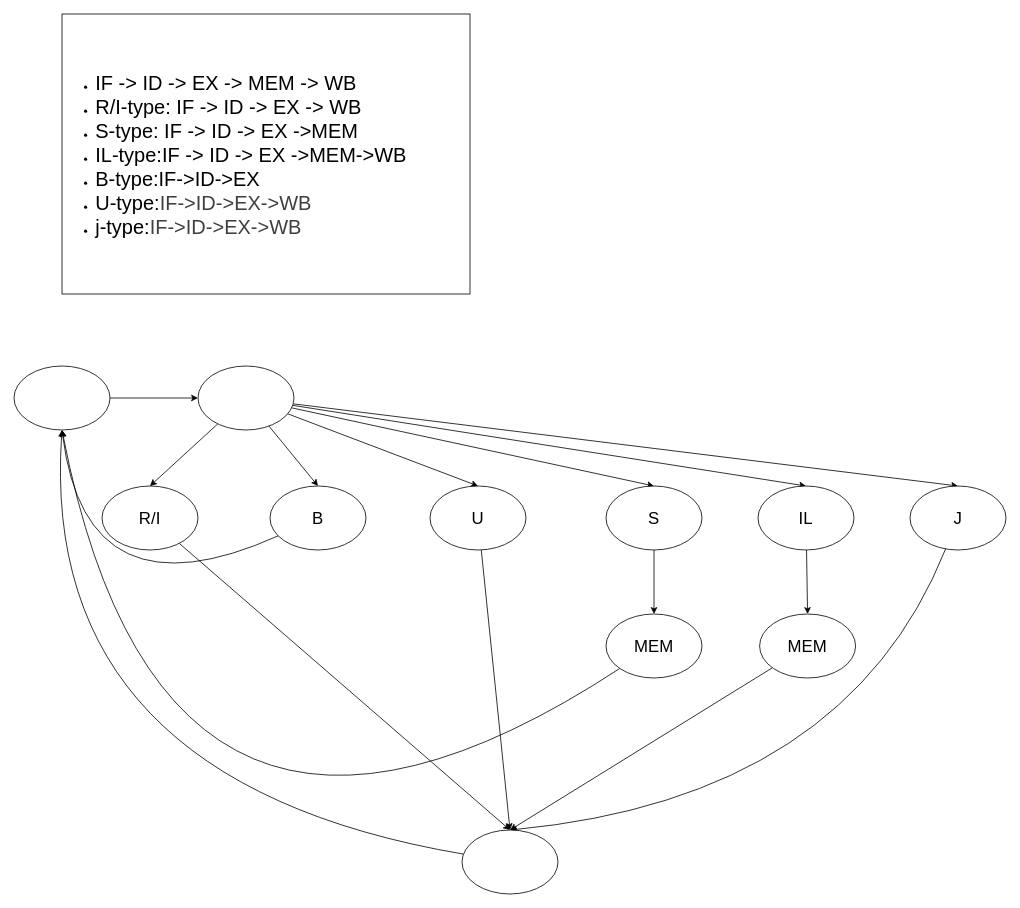
The diagram is 1020 pixels wide and 908 high, and some of its shapes have lost their labels. Each missing label, with the centre of its shape:
"ID" goes at pixel 245 397.
"IF" goes at pixel 61 397.
"WB" goes at pixel 509 861.
